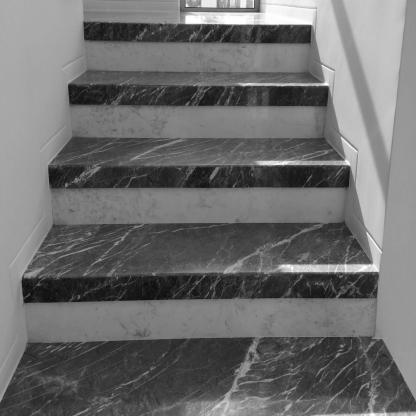stair: (10, 6, 391, 416)
